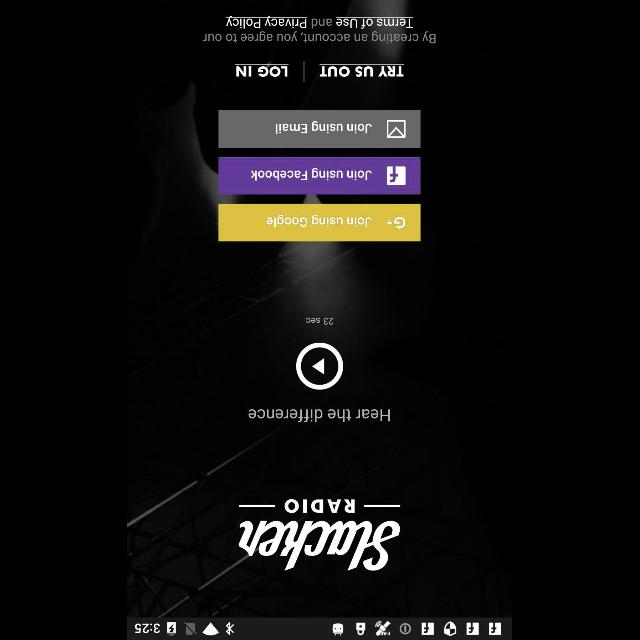backgroundimage: (128, 0, 512, 618)
icon: (296, 342, 344, 390)
image: (239, 498, 401, 572)
text: (204, 16, 436, 44), (250, 409, 390, 423), (320, 64, 404, 76), (237, 64, 290, 76), (306, 318, 334, 324)
textbutton: (219, 110, 421, 148), (219, 203, 421, 241), (219, 158, 421, 195)
uppertaskbar: (128, 617, 512, 639)
